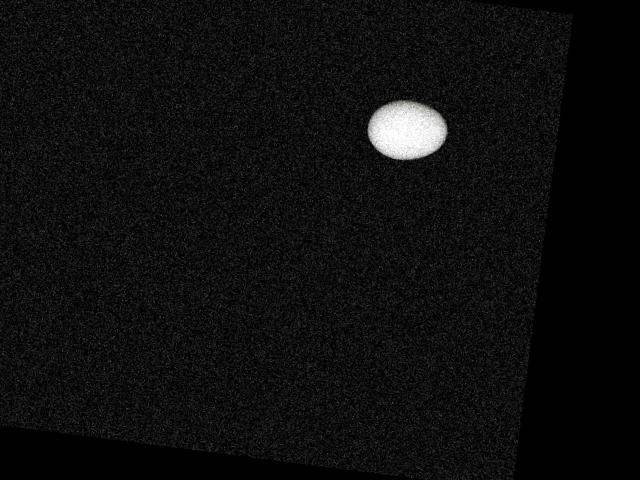egg: (363, 96, 449, 164)
